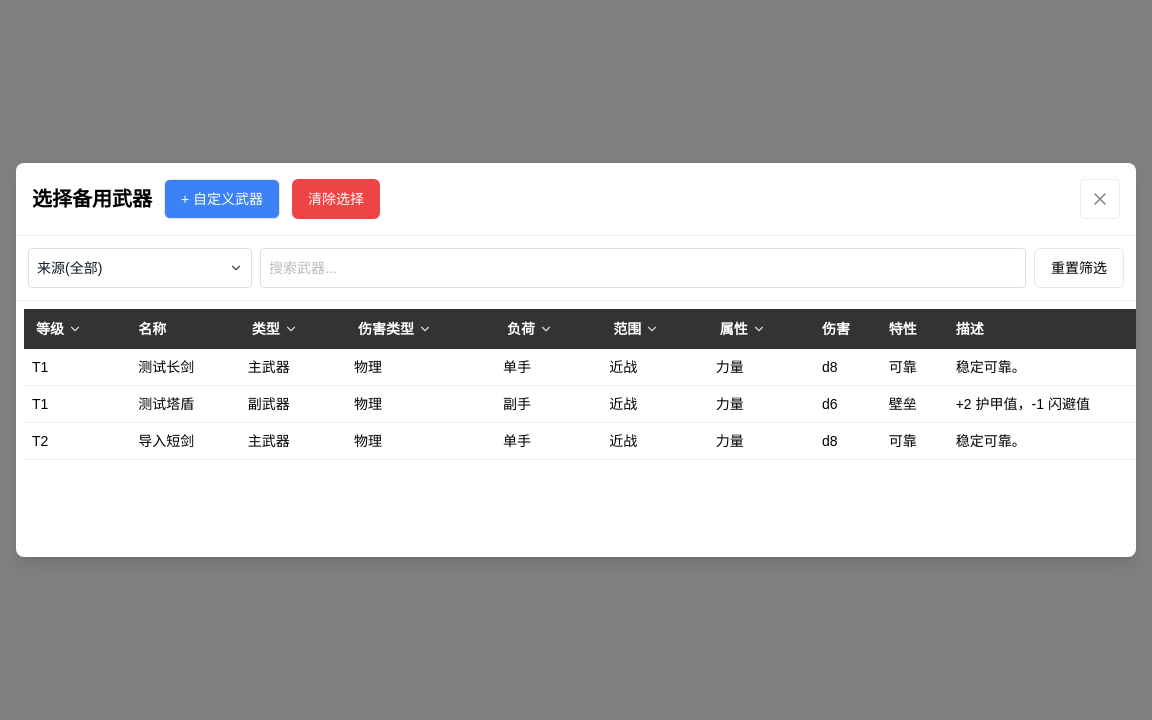
Test: equipment selection modals › fills a custom weapon draft from the keyboard instead of selecting immediately
Click the button "+ 自定义武器" at (222,199), box [164,179,280,219]
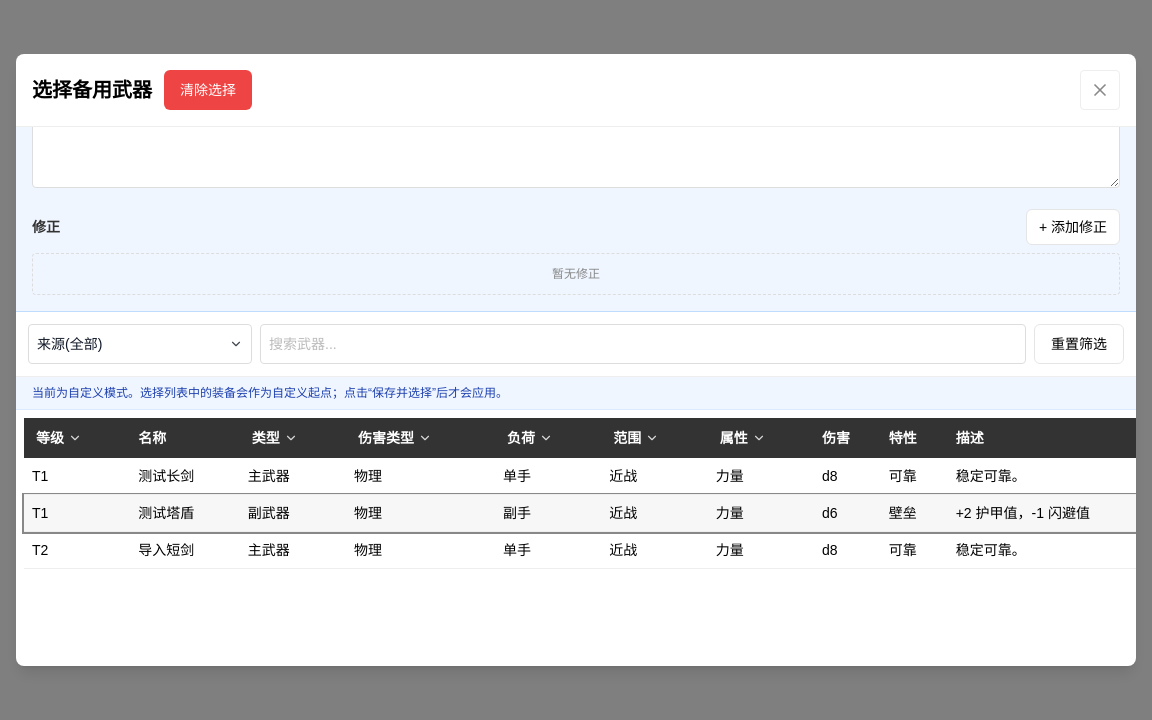
Press Enter
(page scrolled)
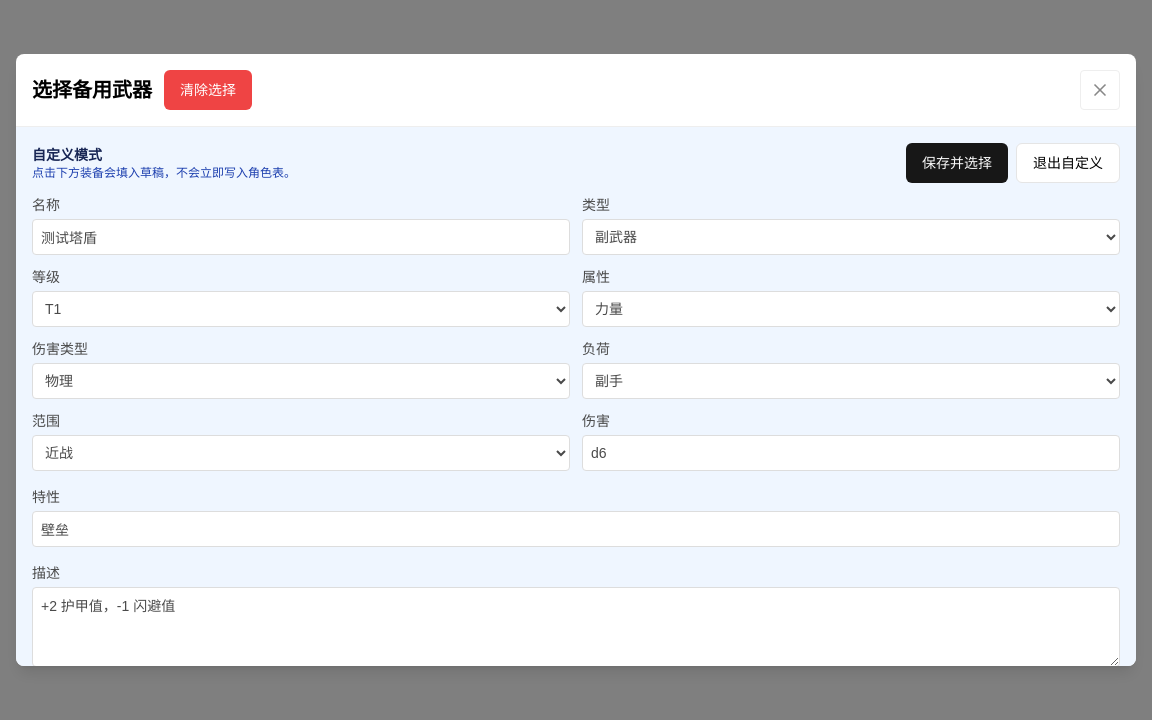
Expected: the field showing "测试塔盾" is shown, [32,219,570,255]
